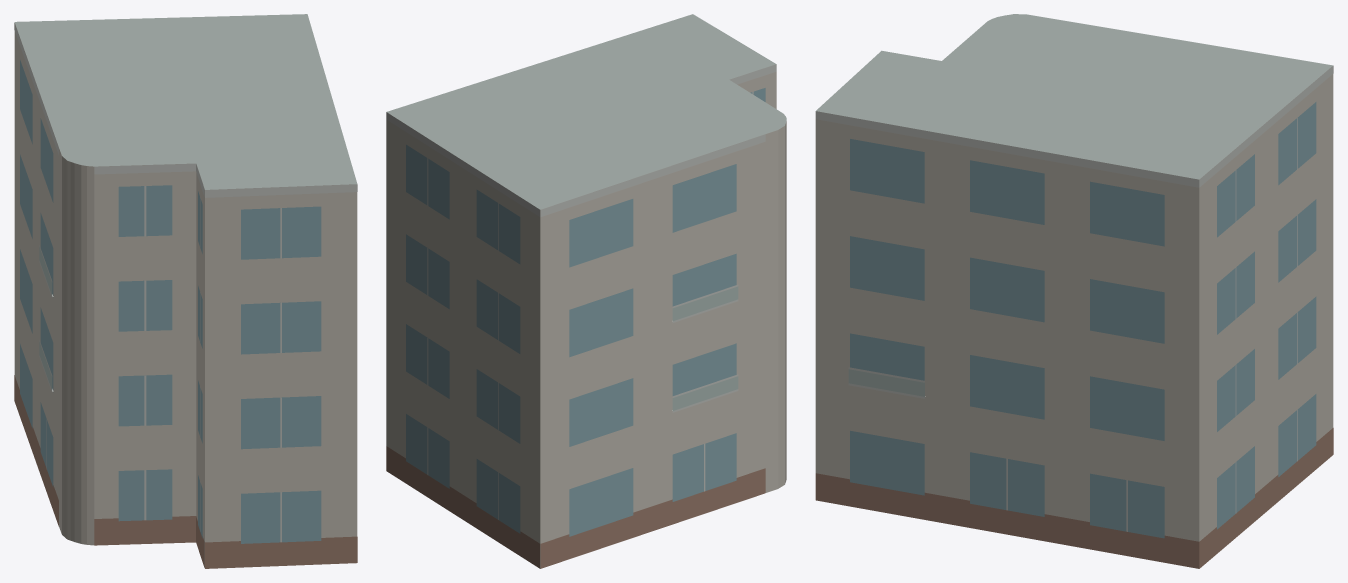
The model's file is survey-upis-32507015.glb.
The picture shows the model from 3 angles, left to right: view 1: azimuth 30°, elevation 25°; view 2: azimuth 150°, elevation 25°; view 3: azimuth 270°, elevation 25°; orthographic projection. The views are drawn at different scales.
Parts seen in each view (by area): view 1: survey-upis-32507015.tmp; view 2: survey-upis-32507015.tmp; view 3: survey-upis-32507015.tmp.
Part boxes in pixels (bbox=[...]): survey-upis-32507015.tmp: bbox=[14, 14, 357, 568]; survey-upis-32507015.tmp: bbox=[386, 14, 786, 568]; survey-upis-32507015.tmp: bbox=[815, 14, 1333, 568].
Size of the model in its own units: 10.68 by 11.7 by 14.12.
